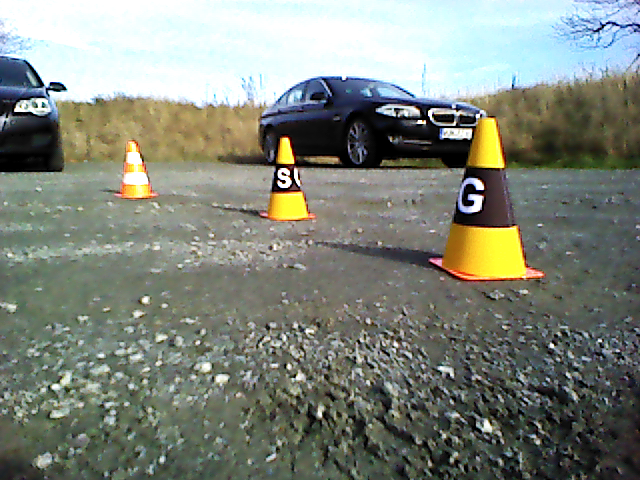orangeconesmall: (119, 141, 156, 197)
yellowcone: (446, 117, 528, 275), (268, 136, 307, 217)
